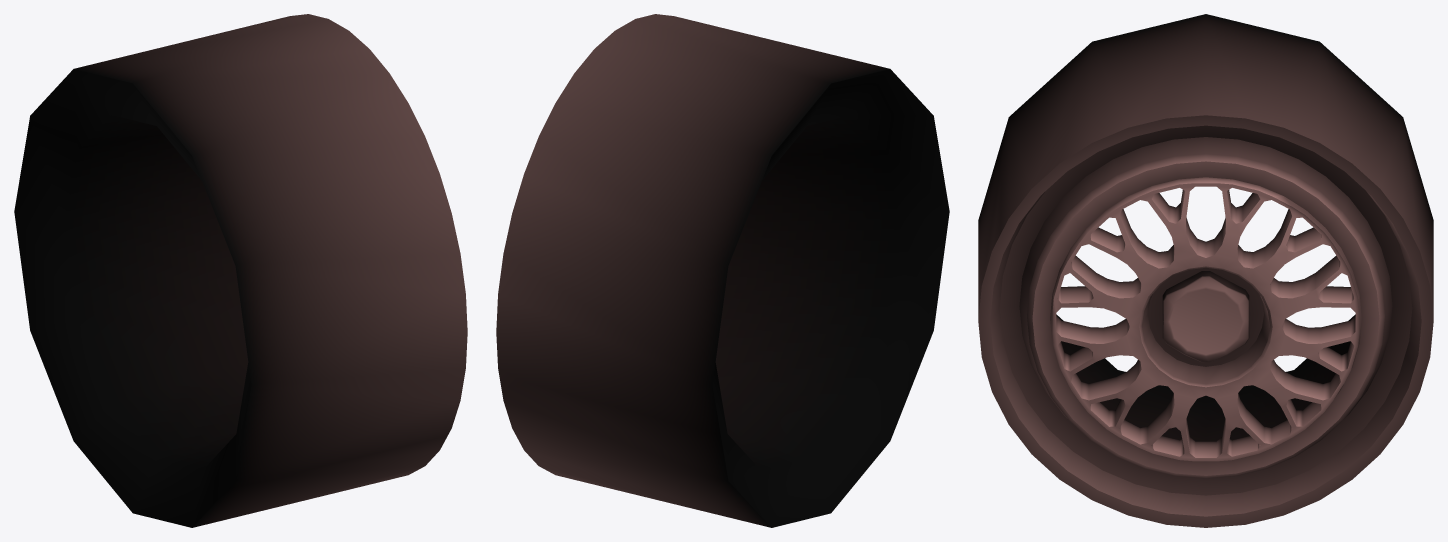
Rendered from MC_XJ220s_Carbon_WheelF.fbx.
The picture shows the model from 3 angles, left to right: view 1: azimuth 30°, elevation 25°; view 2: azimuth 150°, elevation 25°; view 3: azimuth 270°, elevation 25°; orthographic projection. The views are drawn at different scales.
Visible parts, largest first — view 1: MC_XJ220s_Carbon_WheelF; view 2: MC_XJ220s_Carbon_WheelF; view 3: MC_XJ220s_Carbon_WheelF.
Boxes of the visible parts, <box> form: MC_XJ220s_Carbon_WheelF: <box>14,14,467,527</box>; MC_XJ220s_Carbon_WheelF: <box>496,14,949,527</box>; MC_XJ220s_Carbon_WheelF: <box>978,14,1433,527</box>.
Bounding box in the file's own units: 26.34 × 47.58 × 47.58.
